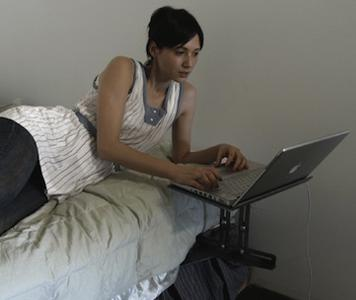person: (1, 7, 249, 237)
